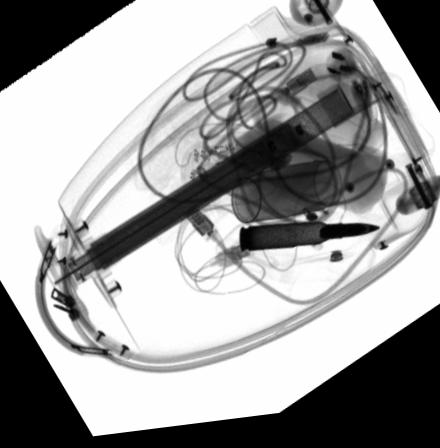Bullet: (237, 228, 379, 257)
